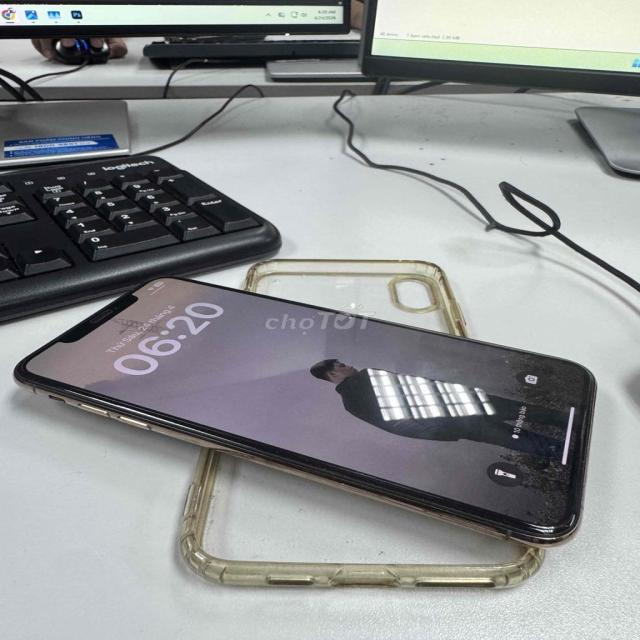gen_x_xs: (9, 274, 595, 552)
